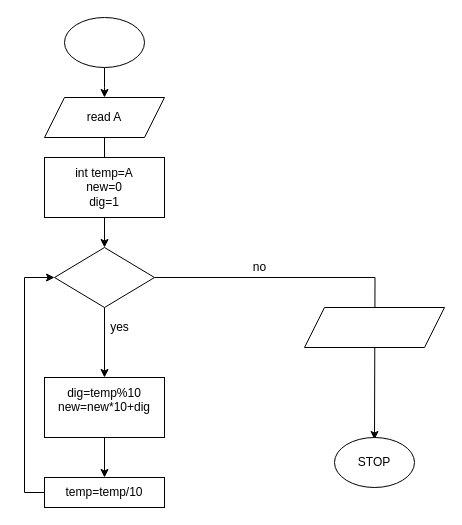
This 462x525 diagram has some shape labels left out. The shapes that lost their labels are listed below. From the top down, each one's centre as x and y in pixels, then its label:
At (104,42): "START".
At (104,277): "while temp>0".
At (374,327): "print new".
